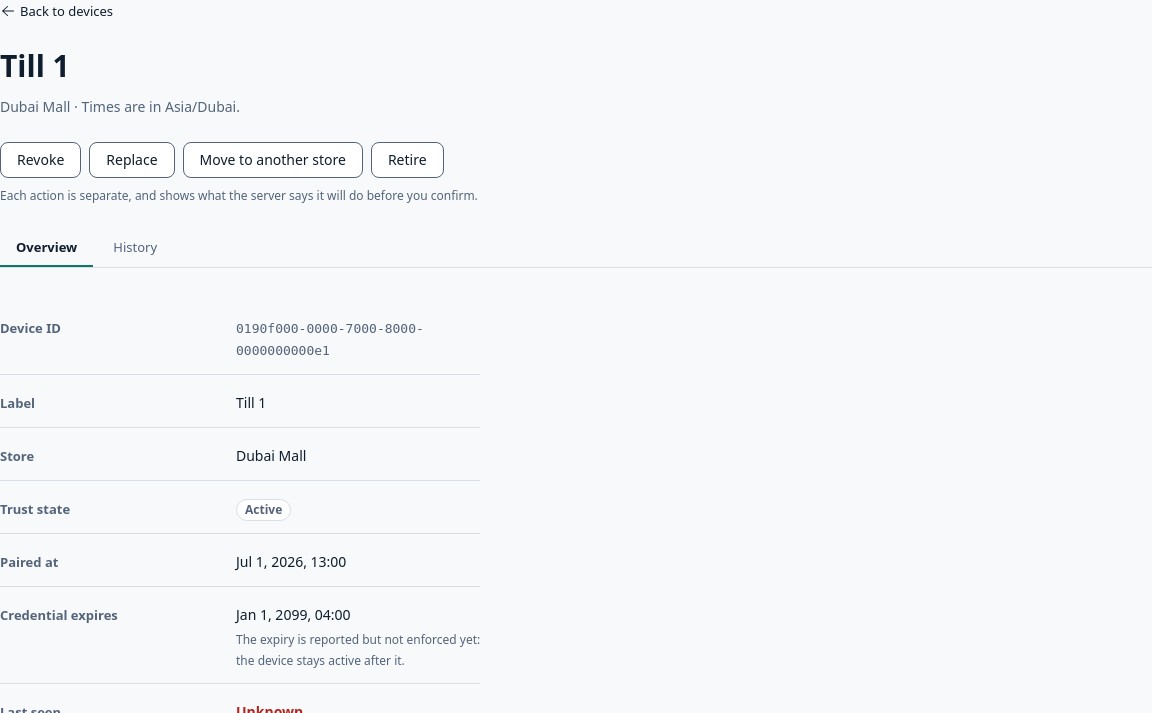
Replace and Move (RT-372 part B) › blocked unresolved_cash_session on replace: nothing to issue, no override
Expected: the heading "Till 1" is shown, [0,45,70,86]
Click the button "Replace". click: (132, 160)
box: [89,142,175,178]
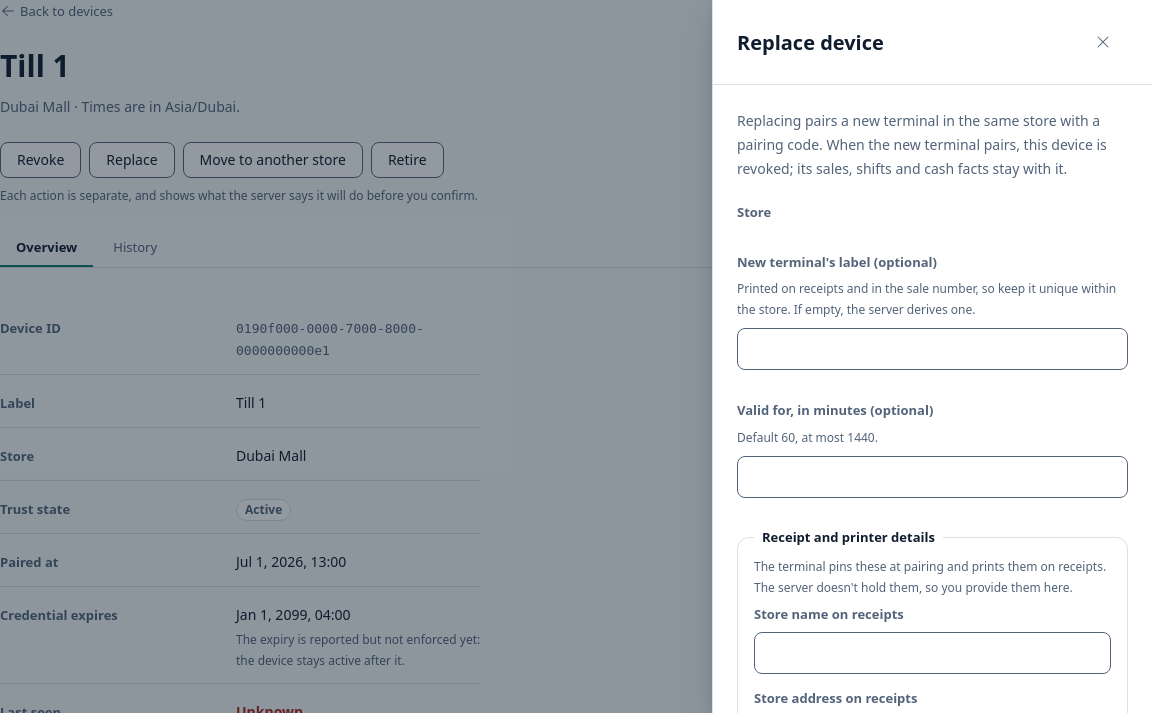
Type "Dubai Mall" into the field labelled "Store name on receipts". click: (932, 653)
box: [754,632,1111,674]
(page scrolled)
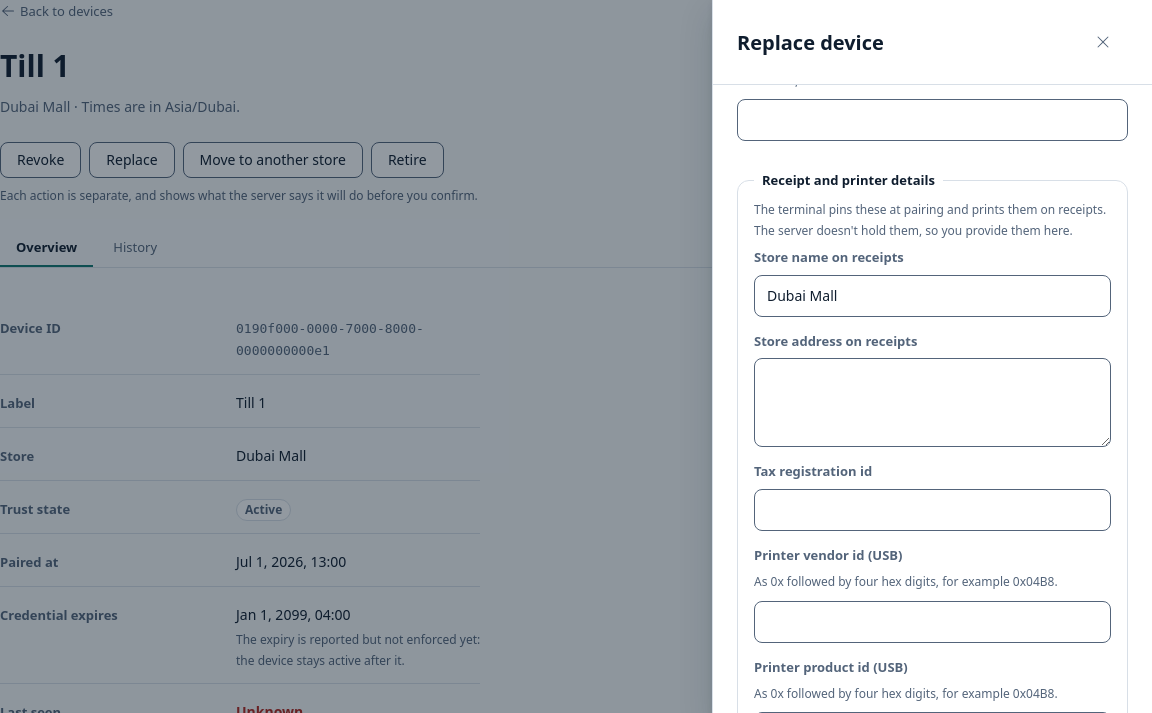
Type "Level 1, Downtown" into the text box labelled "Store address on receipts". click: (932, 403)
box: [754,358,1111,448]
Type "TRN-100200300" into the field labelled "Tax registration id". click: (932, 510)
box: [754,489,1111,531]
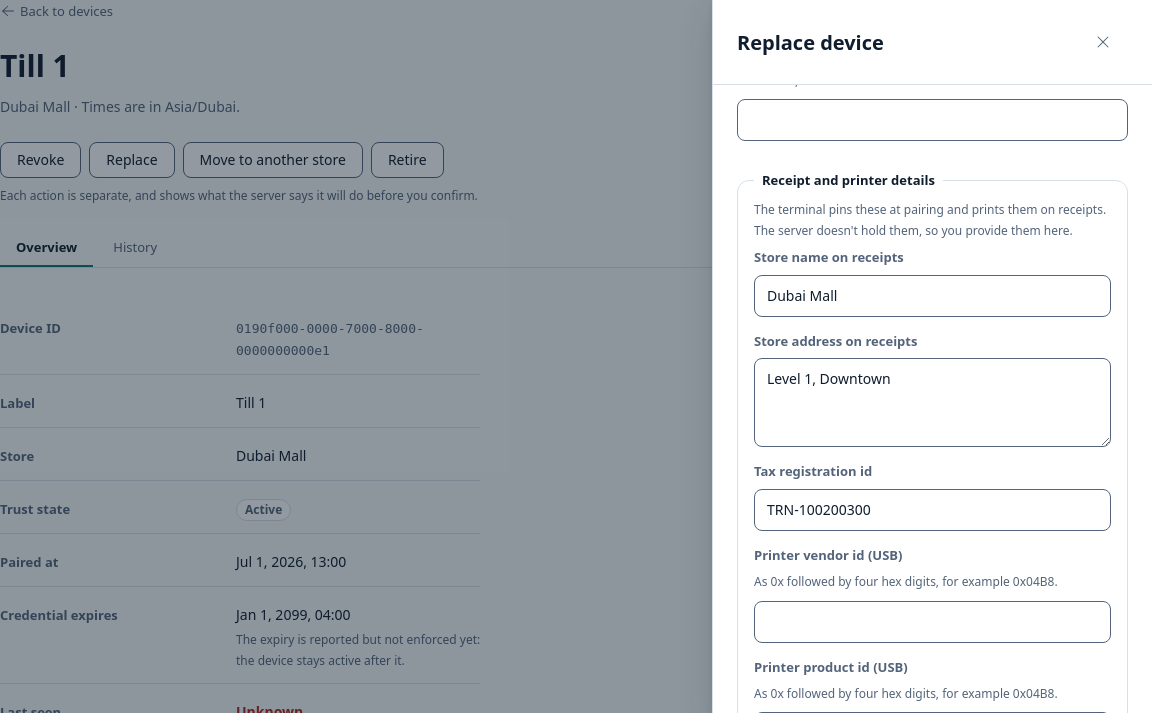
Type "0x04B8" into the field labelled "Printer vendor id (USB)". click: (932, 622)
box: [754,601,1111,642]
(page scrolled)
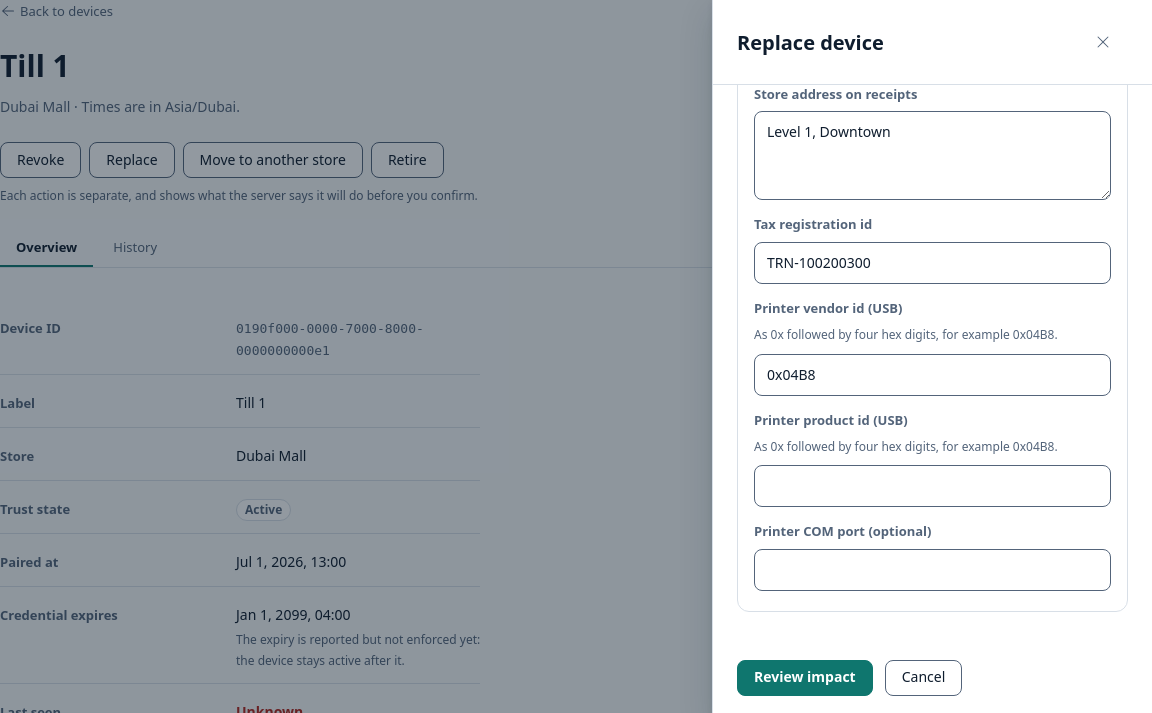
Type "0x0E15" into the field labelled "Printer product id (USB)". click: (932, 486)
box: [754,466,1111,507]
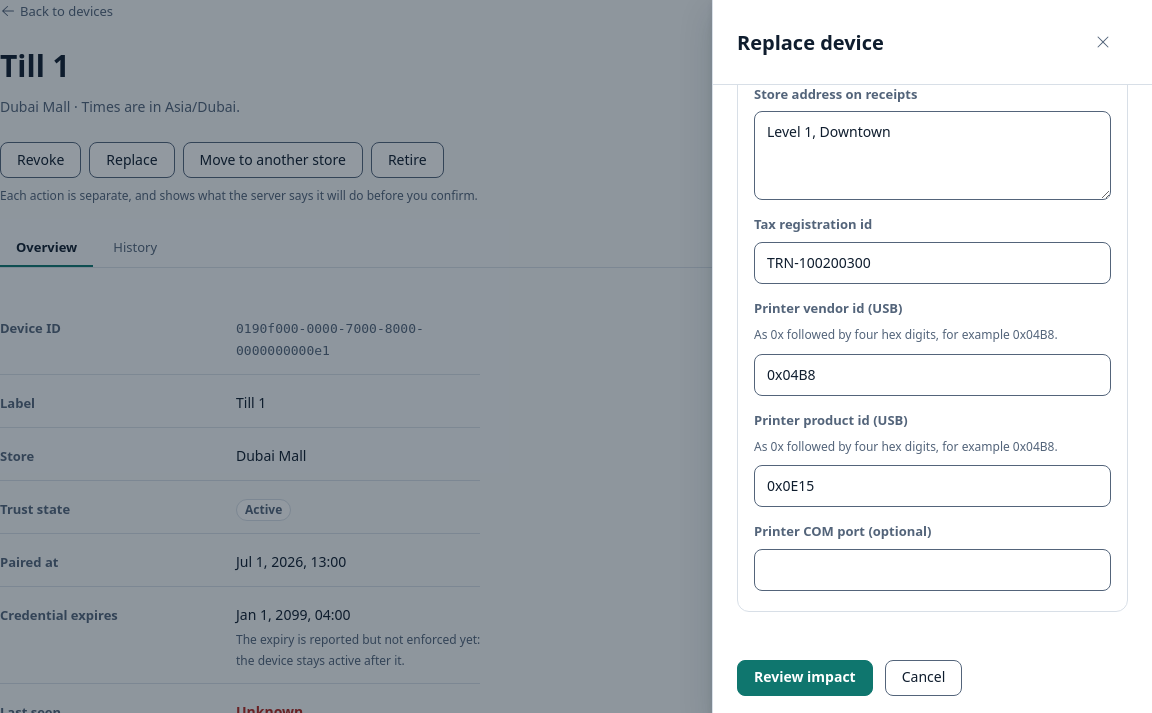
Click the button "Review impact". click: (805, 678)
box: [737,660,873,696]
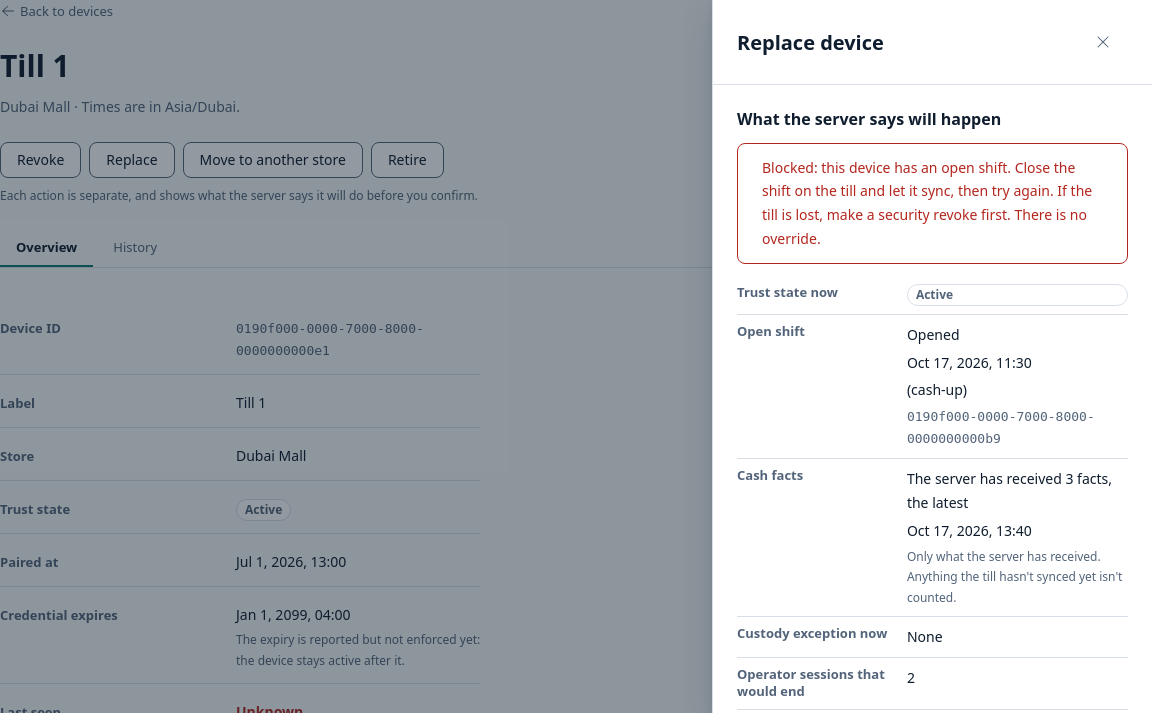
Result: the text "Close the shift on the till and let it sync" is shown at [762,158,1092,248]
